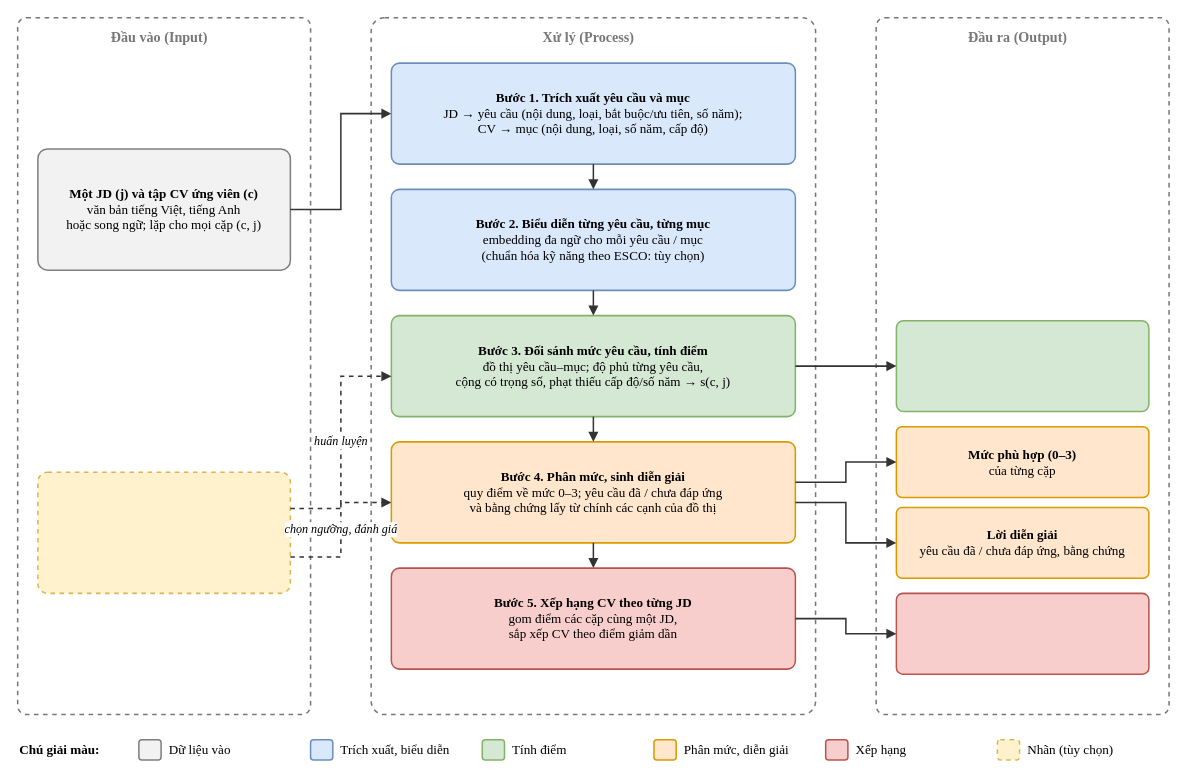
Image size: 1188x783. Some labels were removed from this diagram. The shapes that lost their labels are listed below. From the top down, each one's centre as x and y in pixels, then its label:
At (1022,365): "Điểm phù hợp s(c, j) của từng cặp".
At (164,532): "Nhãn mức phù hợp y y = 0, 1, 2, 3 (tùy chọn: chỉ dùng khi huấn luyện, đánh giá)".
At (1022,633): "Danh sách CV của mỗi JD xếp theo điểm giảm dần".
